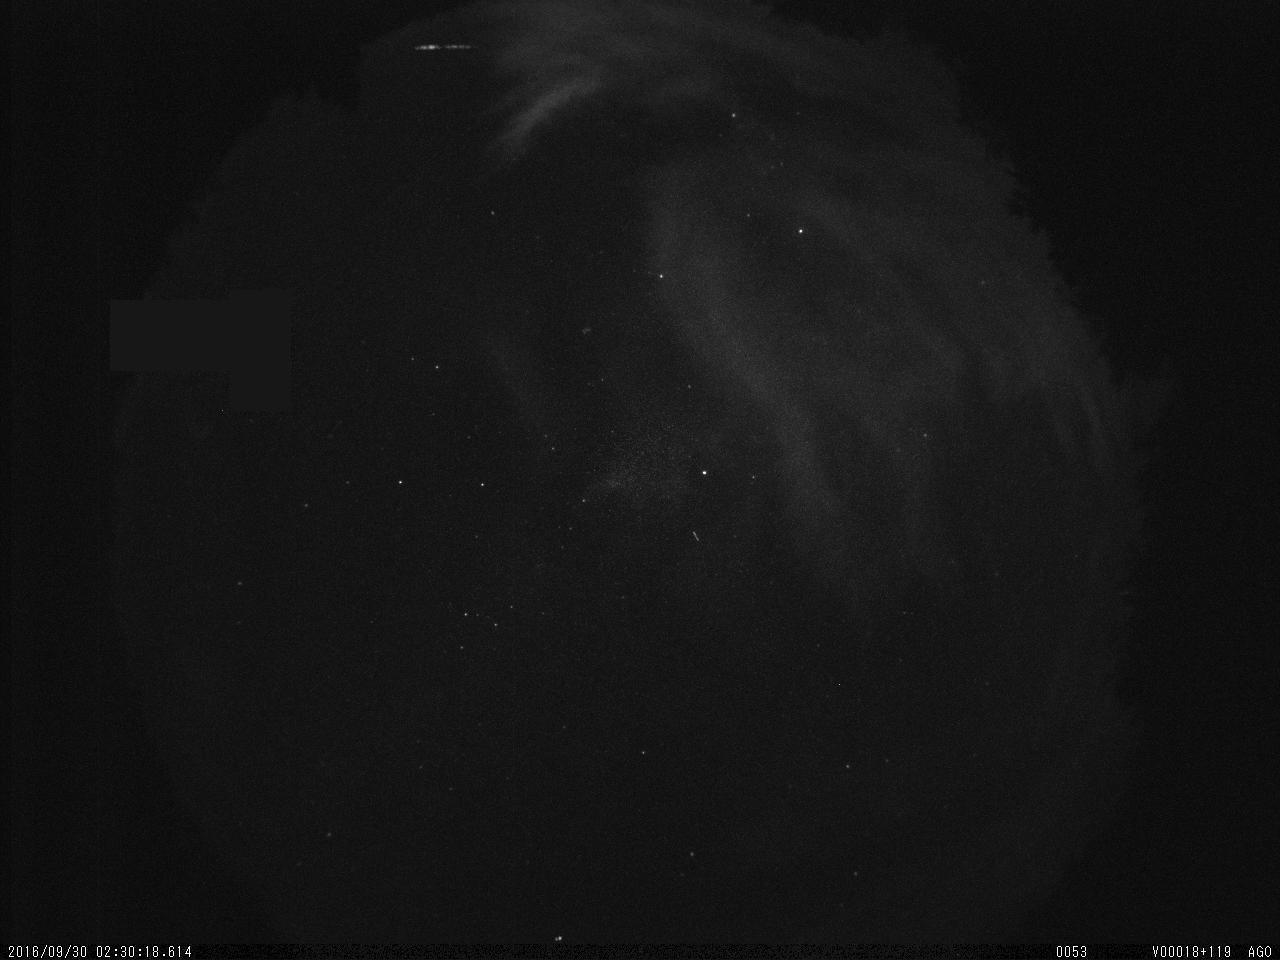Meteor: (409, 38, 481, 54)
